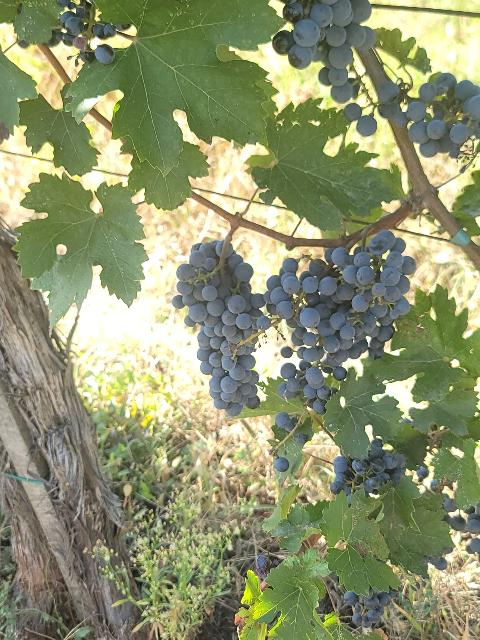grapes: (264, 230, 416, 410), (172, 240, 270, 416), (272, 0, 376, 104), (405, 72, 480, 158)
